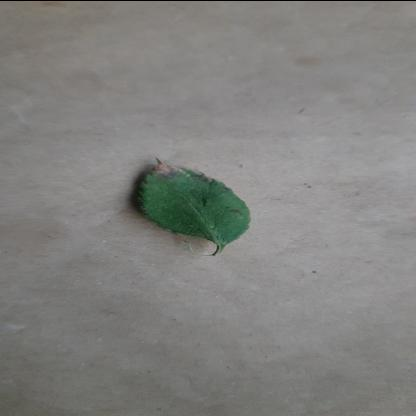downy-mildew: (130, 158, 252, 245)
